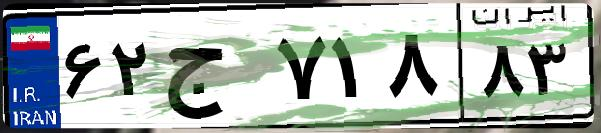1: (330, 28, 385, 110)
2: (110, 28, 158, 98)
3: (525, 38, 570, 115)
6: (57, 26, 110, 100)
7: (270, 28, 330, 110)
8: (385, 28, 445, 110), (475, 38, 525, 113)
ج: (158, 20, 270, 120)
